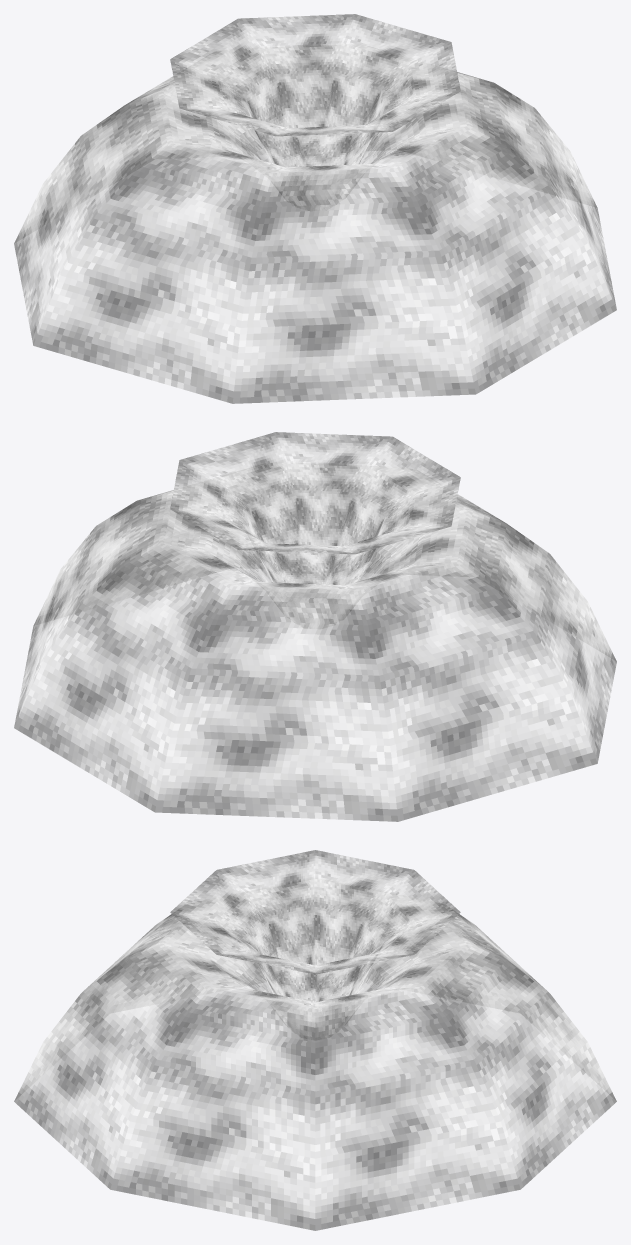
The model's file is wuhu-fountain.glb.
3 renders of one model, top to bottom at view 1: azimuth 30°, elevation 25°; view 2: azimuth 150°, elevation 25°; view 3: azimuth 270°, elevation 25°, orthographic. The views are drawn at different scales.
Visible parts, largest first — view 1: polygon0; view 2: polygon0; view 3: polygon0.
Boxes of the visible parts, x1,y1,x2,y2 form: polygon0: (14, 14, 616, 403); polygon0: (14, 432, 616, 821); polygon0: (14, 850, 616, 1230).
Bounding box in the file's own units: 193 × 65.89 × 190.
1 material, 1 textured.
